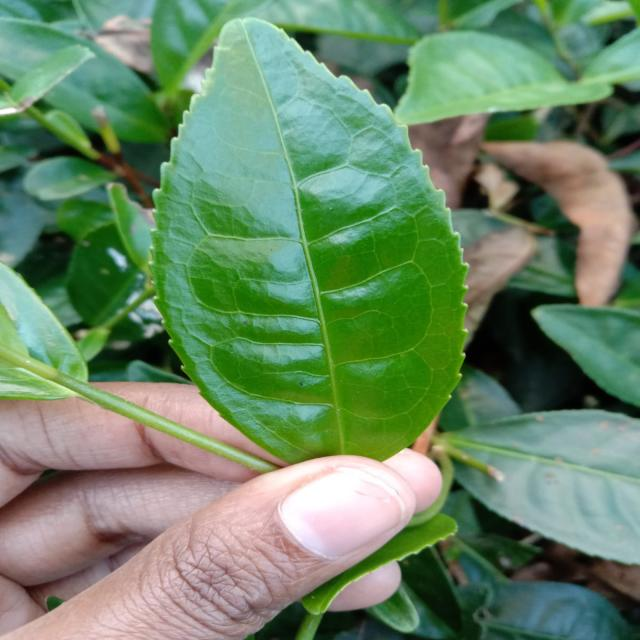Category C 4-7 days: (139, 4, 492, 469)
